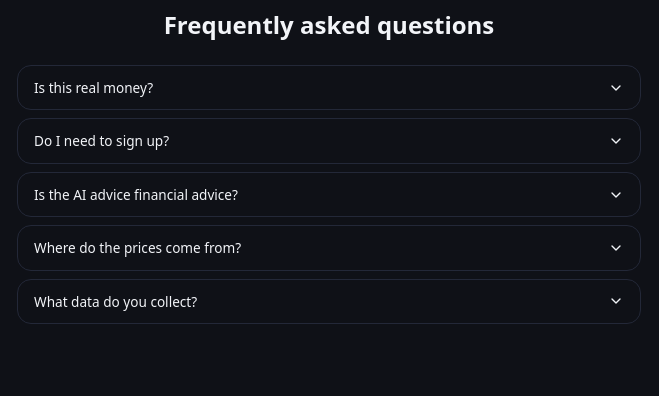
Test: FaqSection › reveals the answer when a question is clicked, and hides it again on a second click
Click the button "Is this real money?" at (94, 88), box [18,66,640,109]
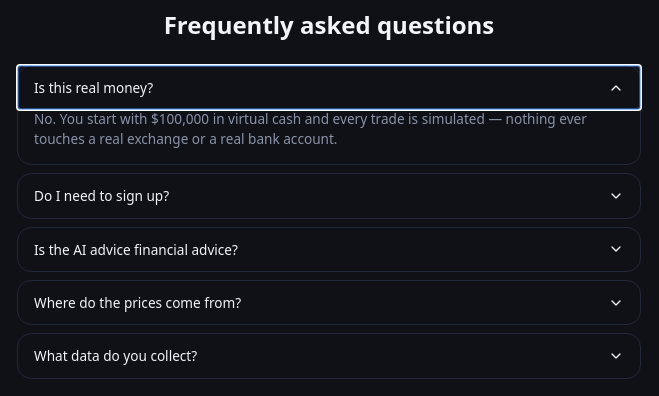
Check: the button "Is this real money?" is expanded
Check: the text "No. You start with $100,000 in virtual cash and every trade is simulated — nothing ever touches a real exchange or a rea" is shown, box [34,109,587,148]
Click the button "Is this real money?" at (94, 88), box [18,66,640,109]
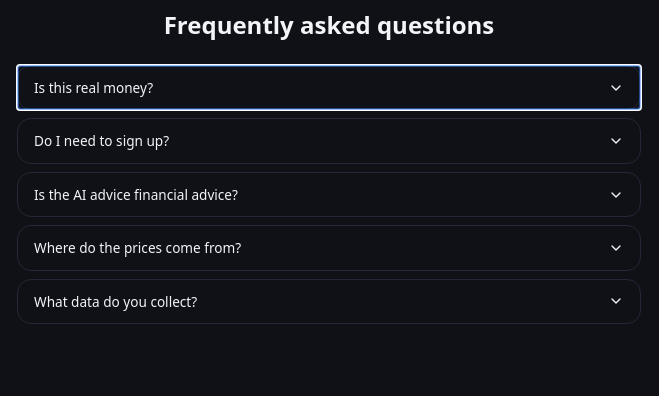
Check: the button "Is this real money?" is collapsed, box [18,66,640,109]
Check: the text "No. You start with $100,000 in virtual cash and every trade is simulated — nothing ever touches a real exchange or a rea" is gone
